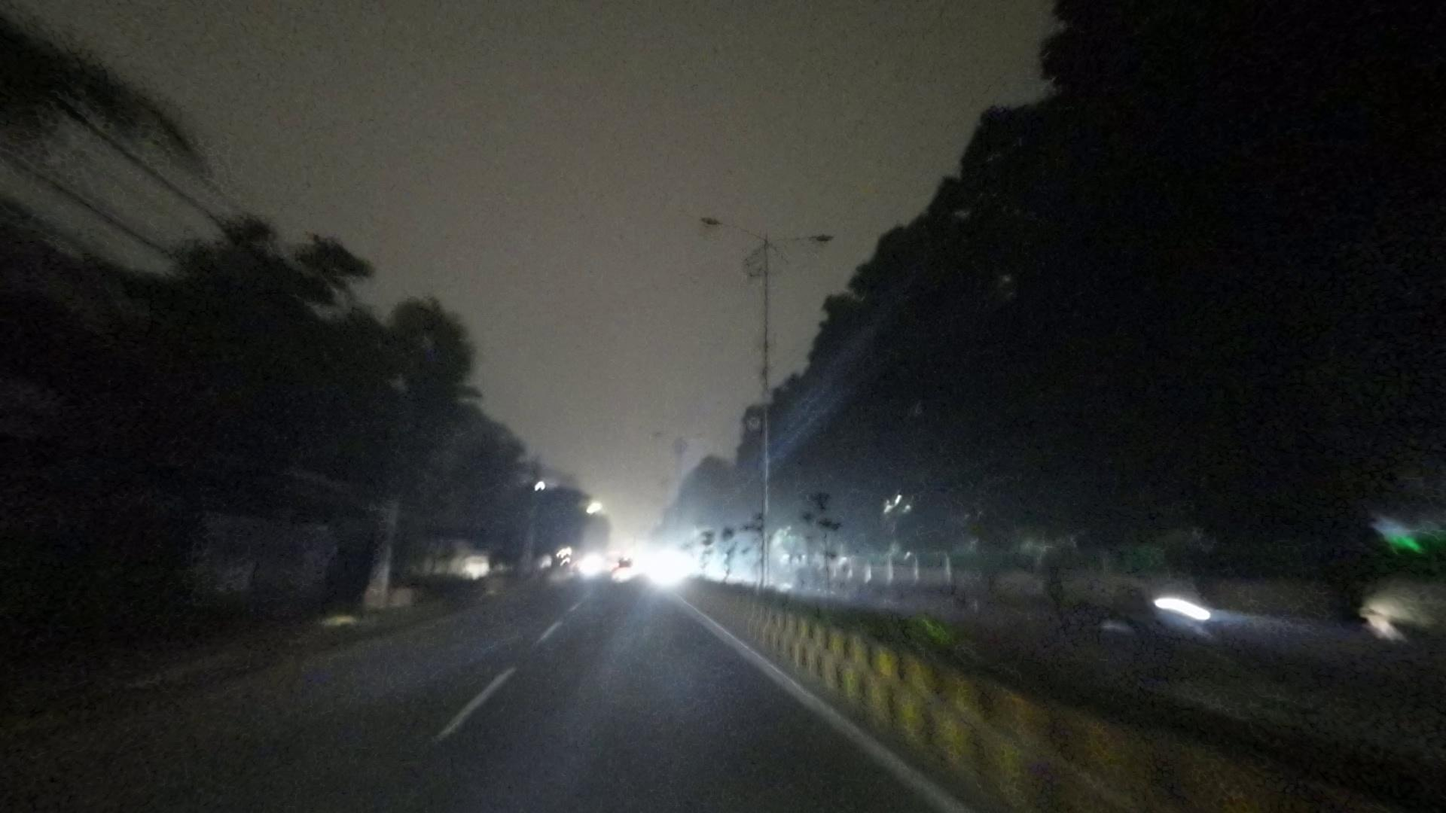streetlight: (698, 212, 763, 240), (775, 231, 835, 247)
